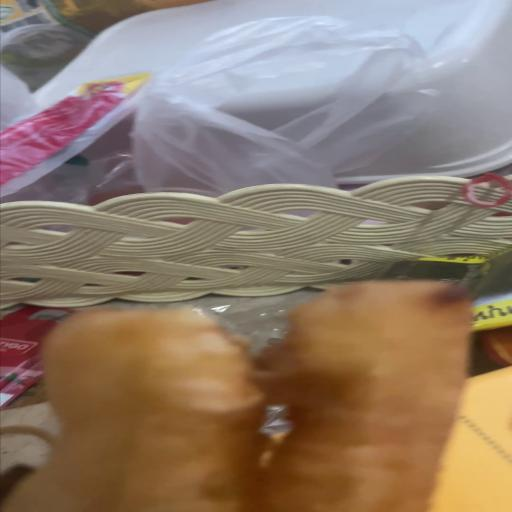street_burnt_defect: (20, 283, 486, 511)
